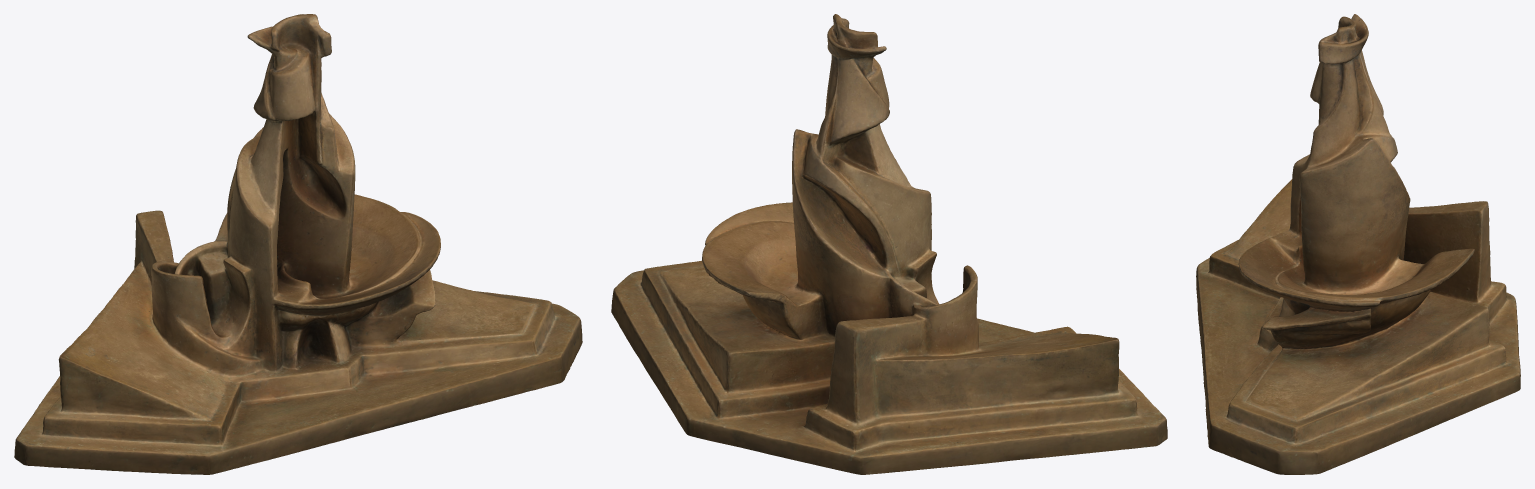
File: preview.glb
3 views of the same model, side by side, from view 1: azimuth 30°, elevation 25°; view 2: azimuth 150°, elevation 25°; view 3: azimuth 270°, elevation 25° (orthographic). The views are drawn at different scales.
Parts seen in each view (by area): view 1: Polygonal_Model_1_PG_1990_38_2_TT_BoccioniBIS_n3d; view 2: Polygonal_Model_1_PG_1990_38_2_TT_BoccioniBIS_n3d; view 3: Polygonal_Model_1_PG_1990_38_2_TT_BoccioniBIS_n3d.
Part boxes in pixels (x1,y1,x2,y2): Polygonal_Model_1_PG_1990_38_2_TT_BoccioniBIS_n3d: (14, 14, 582, 474); Polygonal_Model_1_PG_1990_38_2_TT_BoccioniBIS_n3d: (611, 14, 1167, 474); Polygonal_Model_1_PG_1990_38_2_TT_BoccioniBIS_n3d: (1196, 14, 1520, 474).
Bounding box in the file's own units: 0.6034 × 0.38 × 0.3307.
2 materials, 1 textured.
